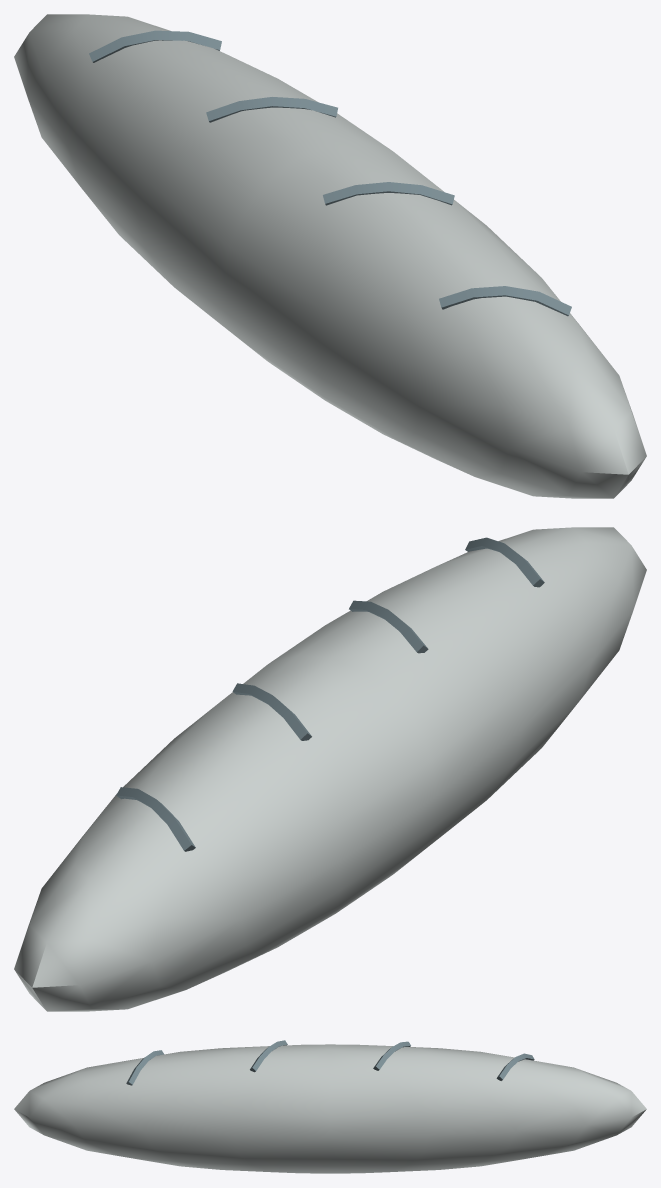
The model's file is baguette.glb.
The picture shows the model from 3 angles, top to bottom: view 1: azimuth 30°, elevation 25°; view 2: azimuth 150°, elevation 25°; view 3: azimuth 270°, elevation 25°; orthographic projection. The views are drawn at different scales.
Visible parts, largest first — view 1: baked_loaf, baker_score_3, baker_score_2, baker_score_1, baker_score_0; view 2: baked_loaf, baker_score_0, baker_score_1, baker_score_2, baker_score_3; view 3: baked_loaf, baker_score_3, baker_score_2, baker_score_0, baker_score_1.
Boxes of the visible parts, x1=… form: baked_loaf: x1=14, y1=14, x2=646, y2=498; baker_score_3: x1=439, y1=286, x2=571, y2=316; baker_score_2: x1=323, y1=182, x2=454, y2=205; baker_score_1: x1=206, y1=97, x2=337, y2=122; baker_score_0: x1=89, y1=30, x2=221, y2=62; baked_loaf: x1=14, y1=527, x2=646, y2=1011; baker_score_0: x1=116, y1=787, x2=195, y2=851; baker_score_1: x1=232, y1=683, x2=311, y2=740; baker_score_2: x1=349, y1=600, x2=428, y2=653; baker_score_3: x1=465, y1=537, x2=544, y2=587; baked_loaf: x1=14, y1=1044, x2=646, y2=1173; baker_score_3: x1=126, y1=1050, x2=163, y2=1085; baker_score_2: x1=250, y1=1040, x2=287, y2=1072; baker_score_0: x1=496, y1=1053, x2=534, y2=1080; baker_score_1: x1=373, y1=1041, x2=410, y2=1070.
Bounding box in the file's own units: 0.07 × 0.0718 × 0.34.
